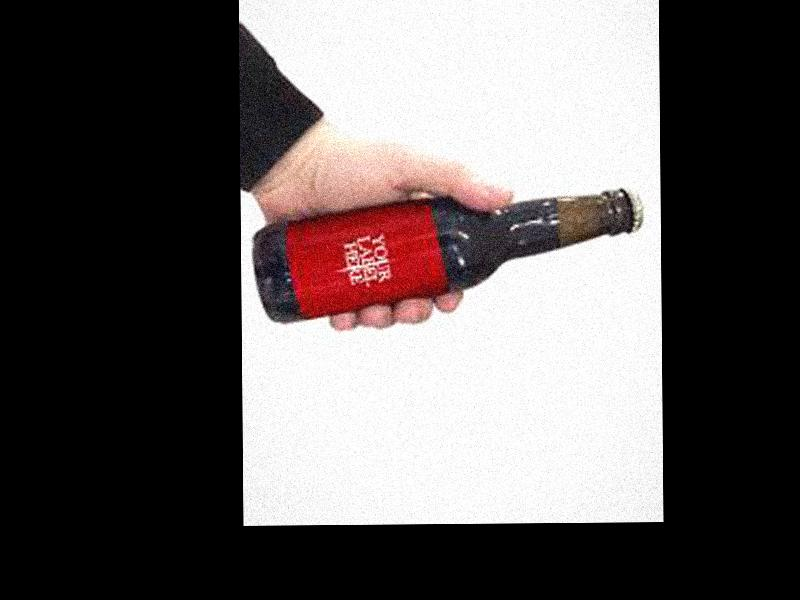Beer: (253, 185, 646, 325)
